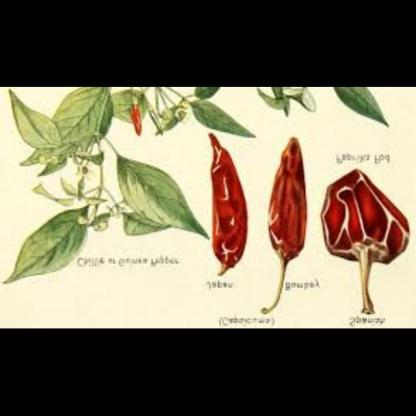hot pepper: (317, 166, 415, 317), (194, 134, 252, 271), (261, 134, 315, 274), (124, 102, 144, 139)
